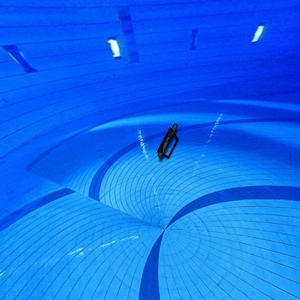submarine: (150, 116, 184, 169)
